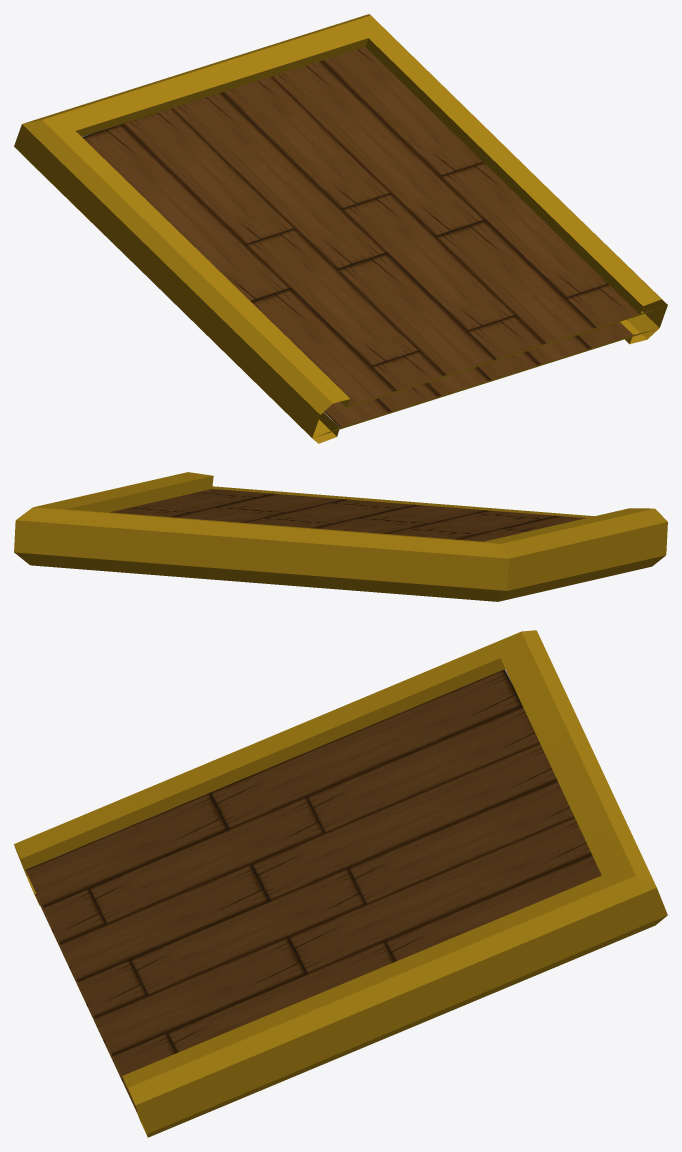
The model's file is cannon_door.fbx.
3 views of the same model, one above another, from view 1: azimuth 30°, elevation 25°; view 2: azimuth 150°, elevation 25°; view 3: azimuth 270°, elevation 25° (orthographic). The views are drawn at different scales.
Visible parts, largest first — view 1: pCube48; view 2: pCube48; view 3: pCube48.
Part boxes in pixels (x1=…): pCube48: x1=14, y1=14, x2=667, y2=443; pCube48: x1=14, y1=472, x2=667, y2=601; pCube48: x1=14, y1=630, x2=667, y2=1137.
Bounding box in the file's own units: 529 × 225 × 532.
